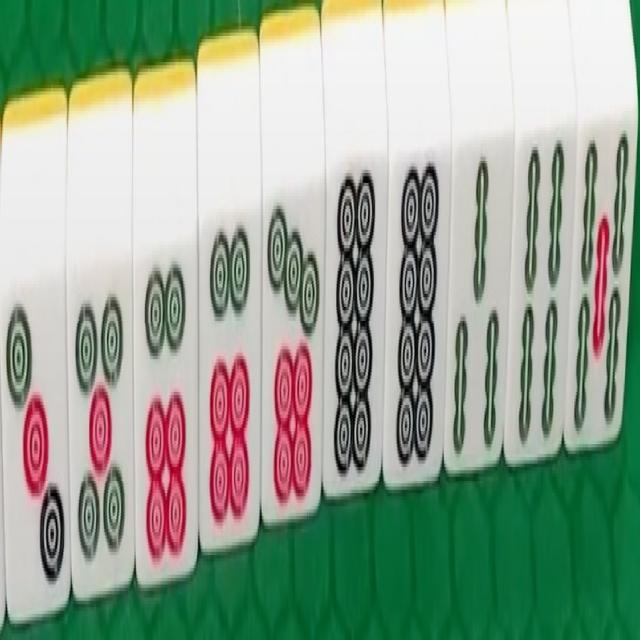s3: (448, 130, 507, 463)
s4: (509, 129, 569, 462)
s5: (571, 126, 631, 455)
t3: (2, 278, 68, 604)
t5: (70, 256, 134, 586)
t6: (132, 226, 197, 576), (206, 215, 256, 544)
t7: (265, 168, 323, 519)
t8: (332, 144, 388, 494), (394, 144, 448, 490)
